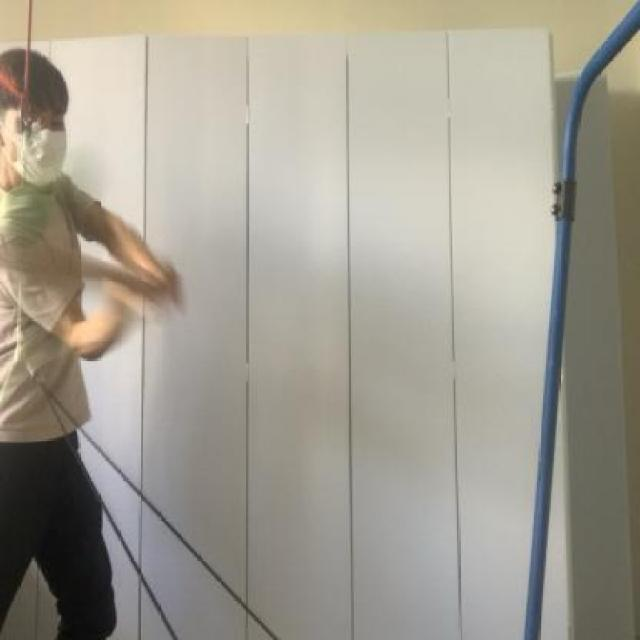baseball: (0, 151, 91, 254)
